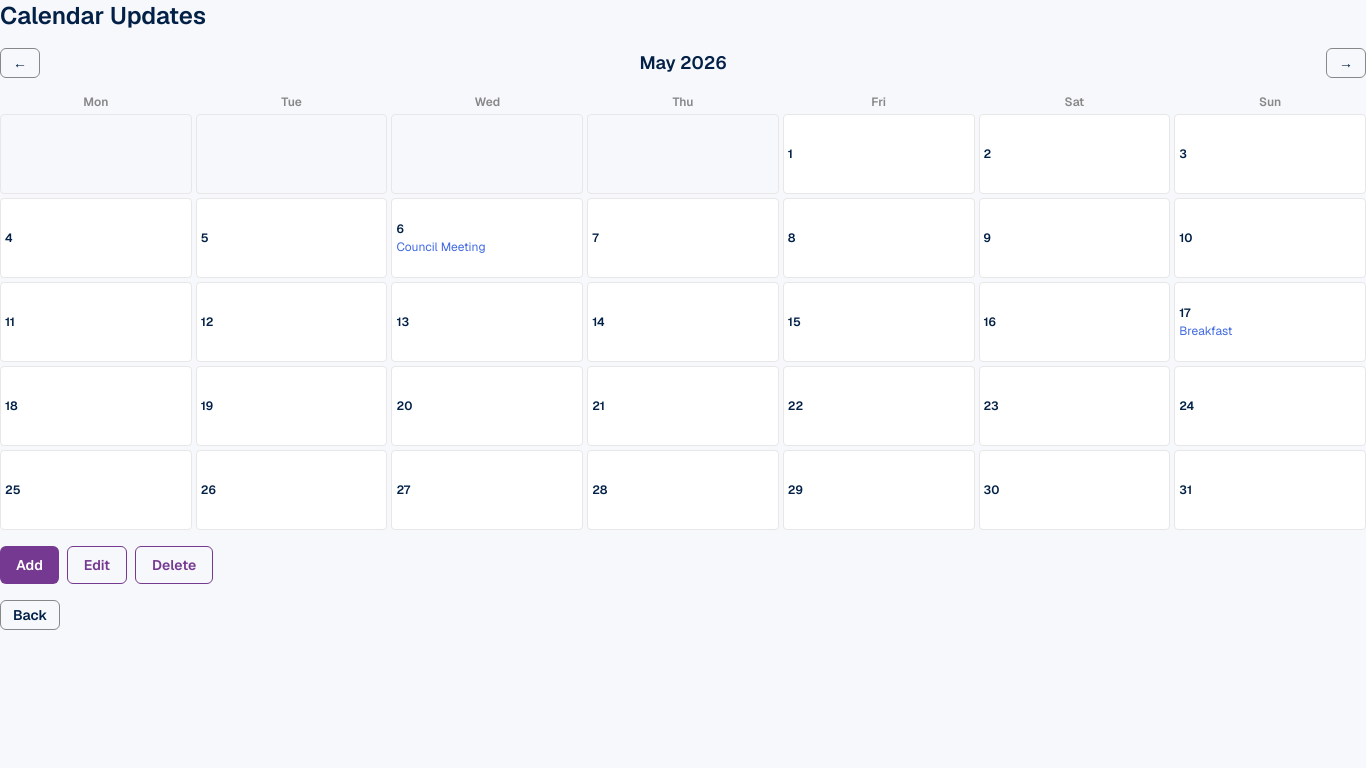
it: CalendarUpdates › shows 'No event on this day.' when Edit is clicked on an empty day
Expected: the text "Council Meeting" is shown, [396,239,486,255]
Click the button named "Select day 1". click: [879, 154]
box: [783,114,974,194]
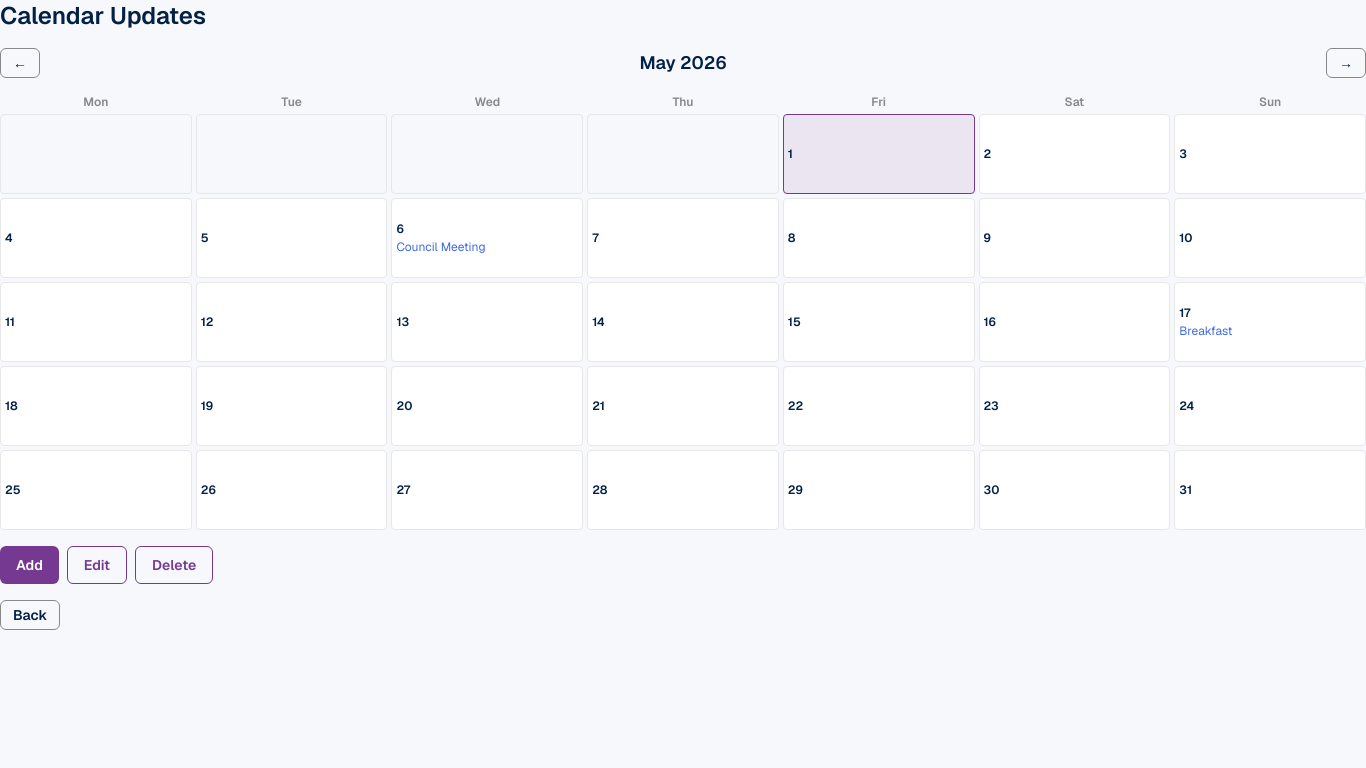
Click the button "Edit". click: [97, 565]
box: [67,546,127,584]
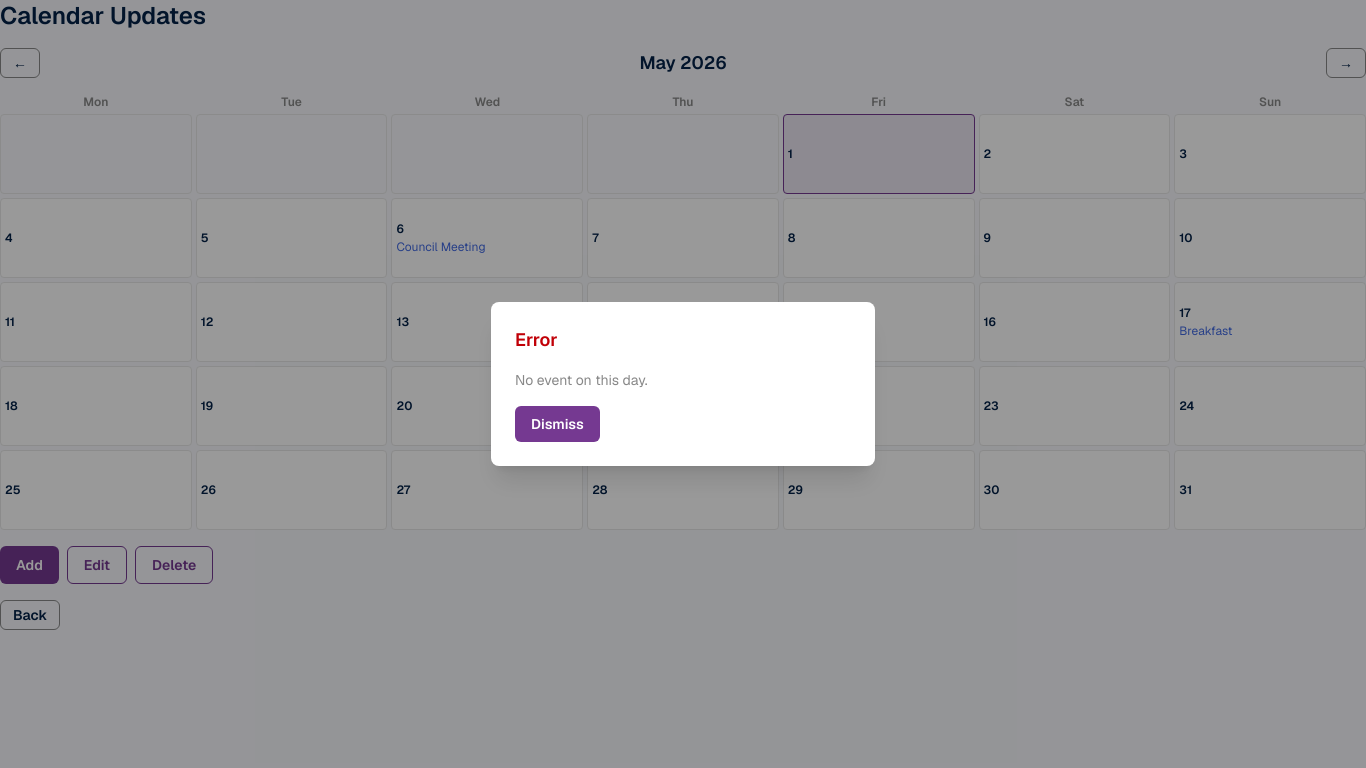
Now the text "No event on this day." is shown, box [515,371,648,389]
